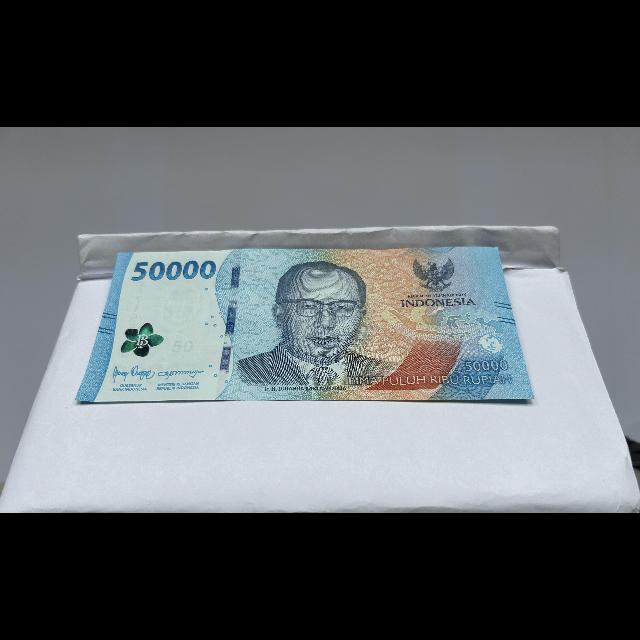Asli-50k: (72, 244, 539, 404)
Tinta-Asli-50k: (116, 316, 169, 363)
